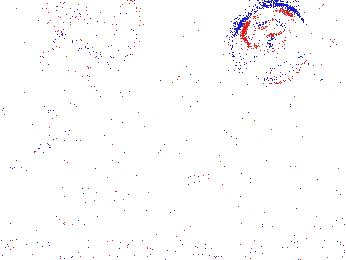moon jellyfish: (15, 65, 97, 143), (232, 7, 308, 84), (57, 1, 143, 58), (304, 1, 346, 89), (1, 1, 57, 44)
